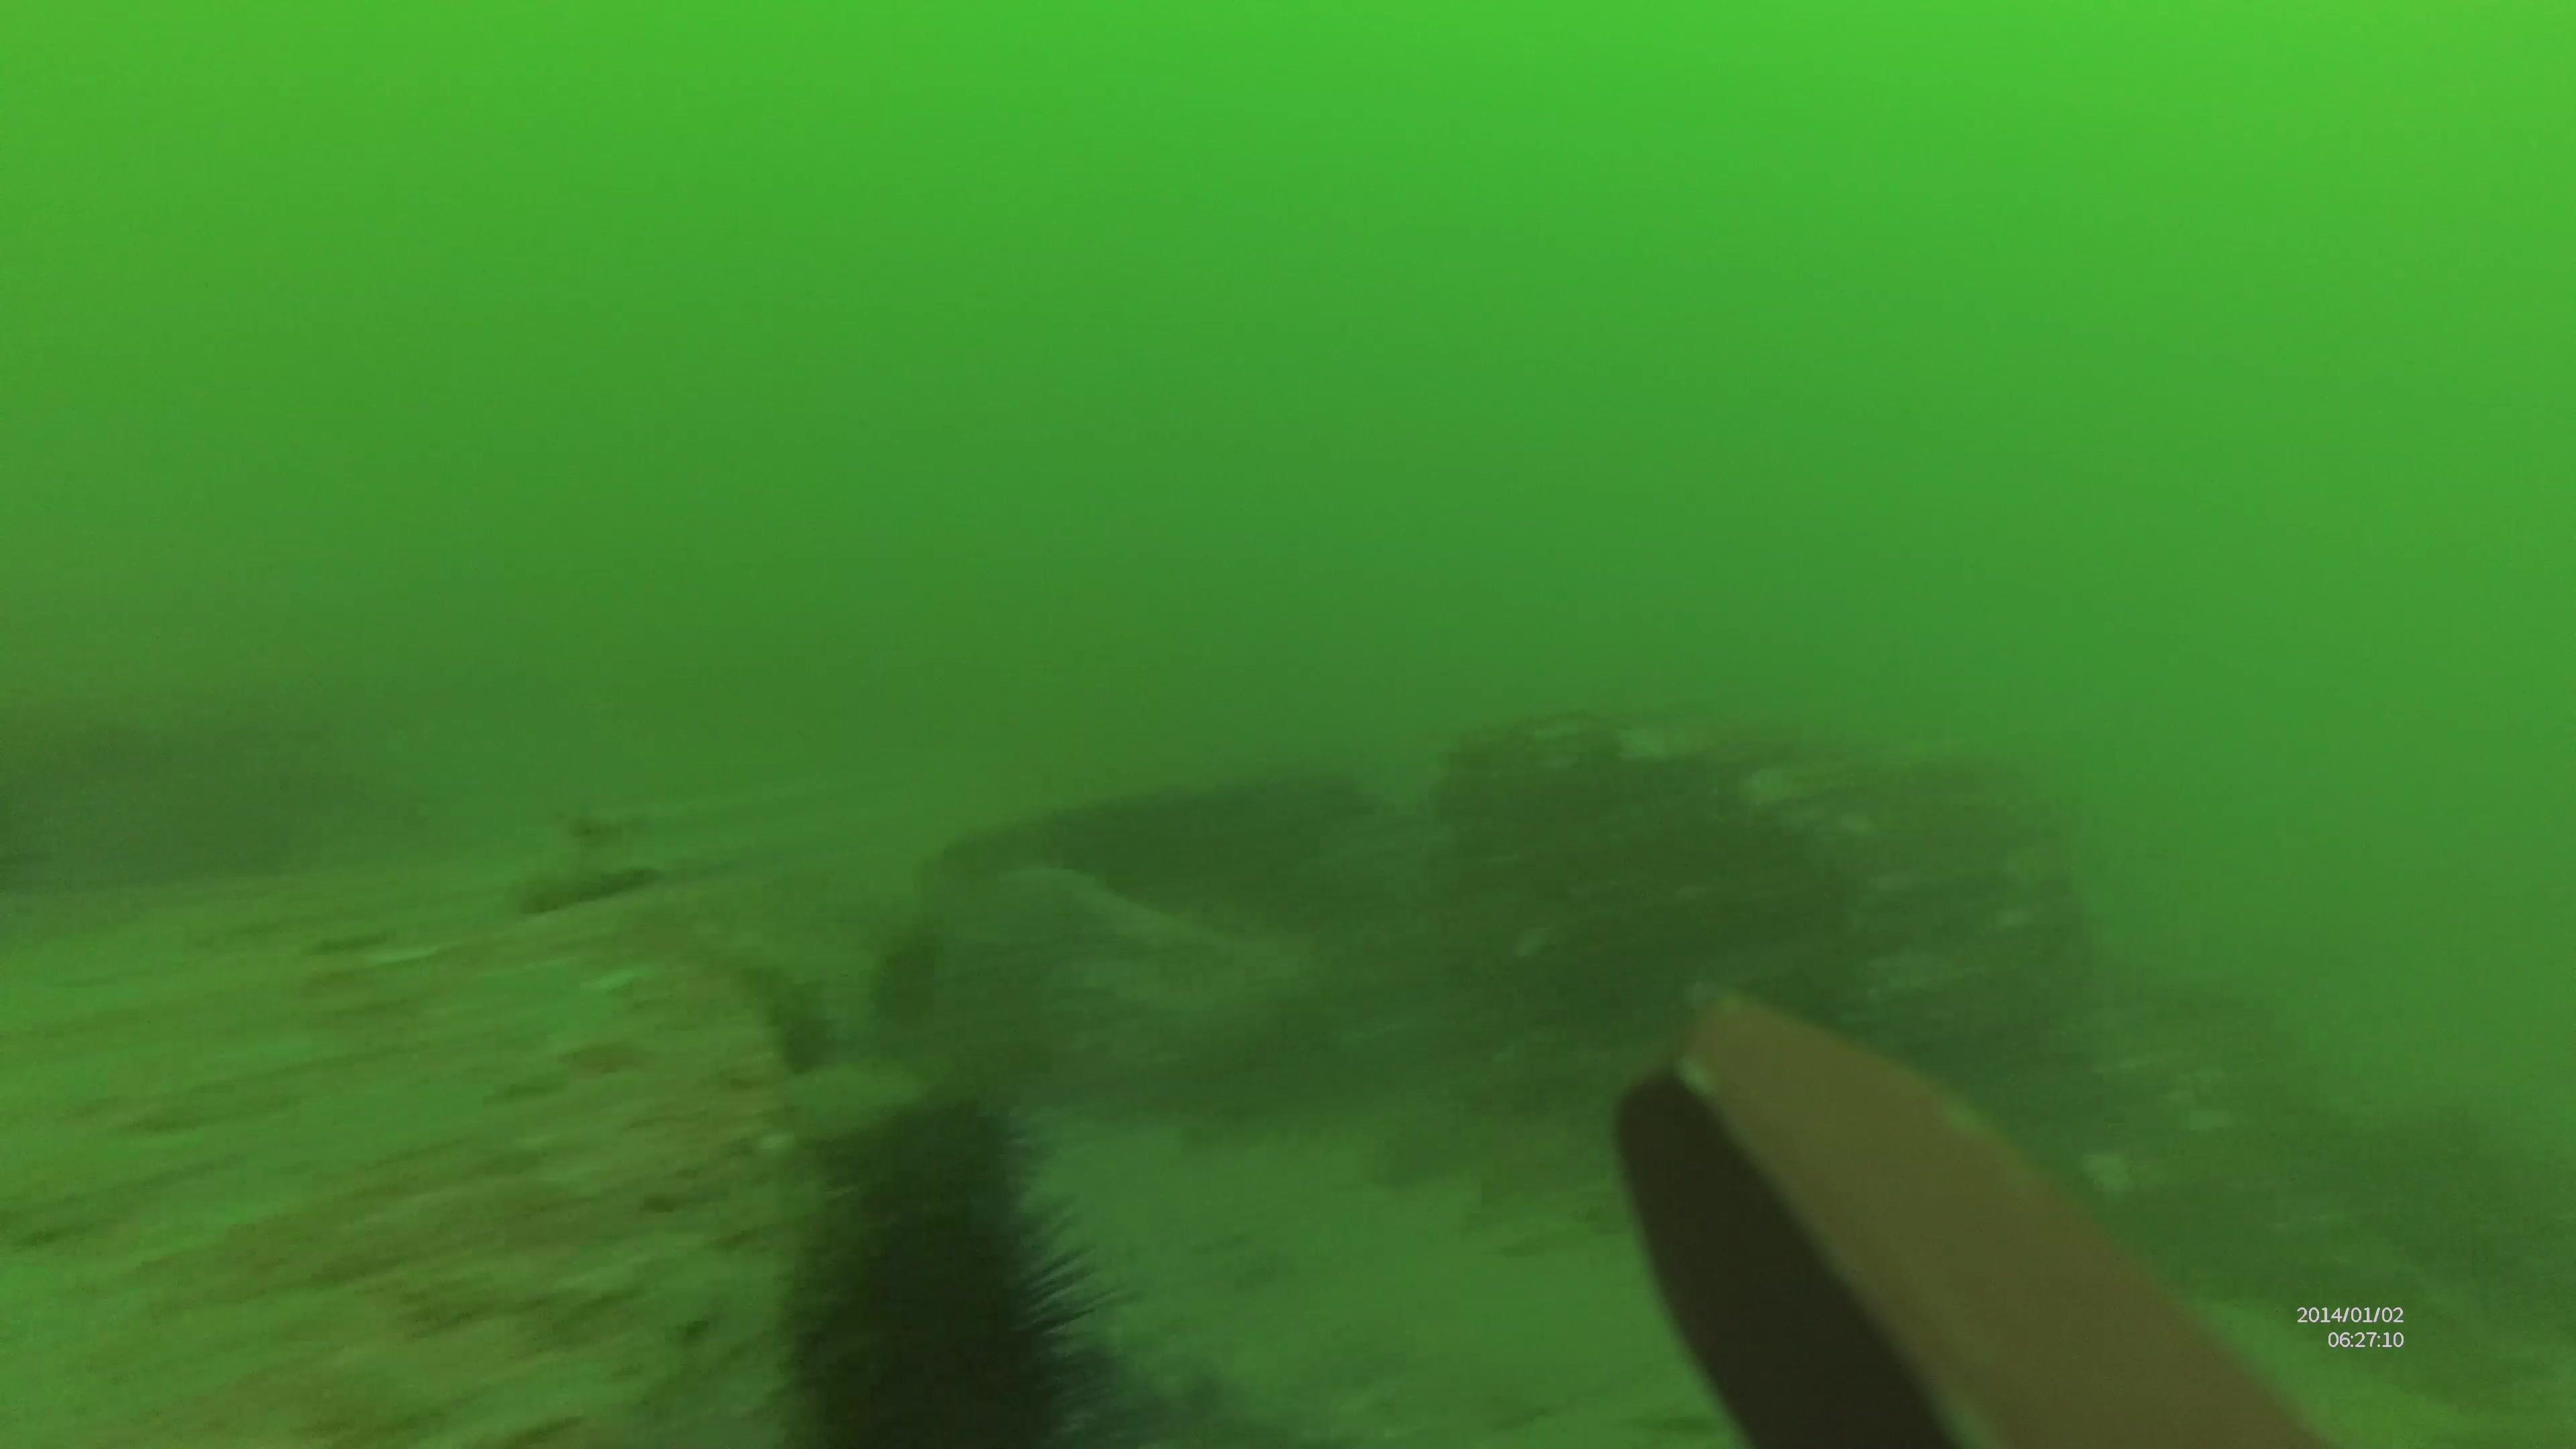echinus: (770, 1088, 1072, 1445)
